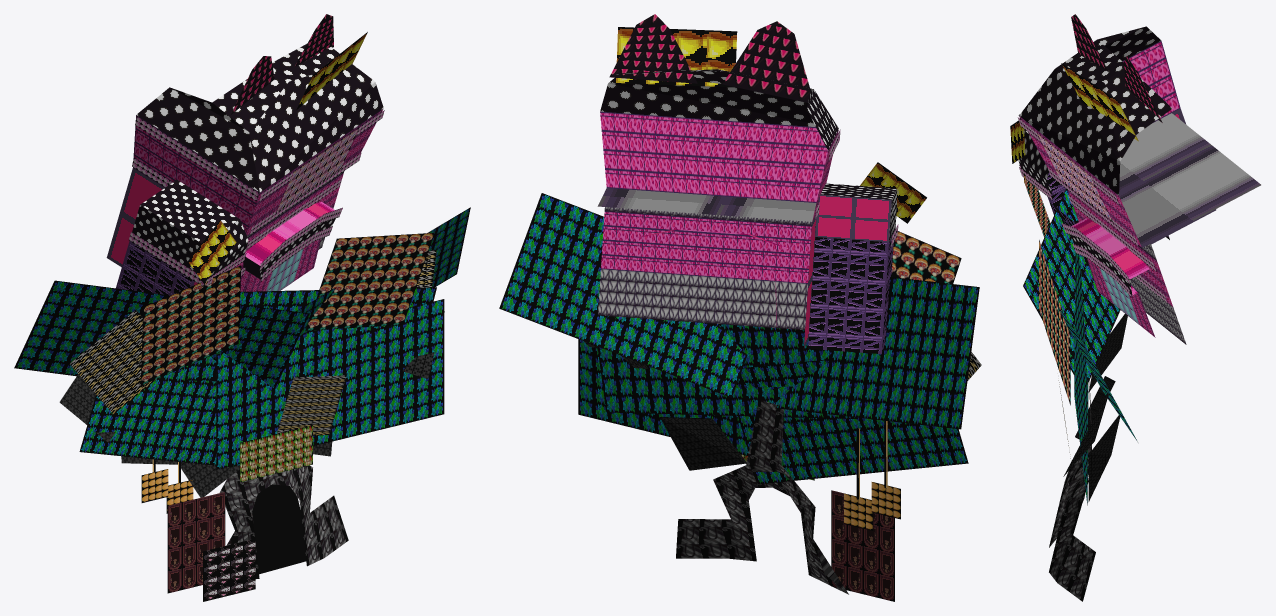
File: tp_pan00.gltf
The picture shows the model from 3 angles, left to right: view 1: azimuth 30°, elevation 25°; view 2: azimuth 150°, elevation 25°; view 3: azimuth 270°, elevation 25°; orthographic projection. The views are drawn at different scales.
Visible parts, largest first — view 1: tp_pan00; view 2: tp_pan00; view 3: tp_pan00.
Boxes of the visible parts, left/top/right/bottom form: tp_pan00: left=14, top=14, right=470, bottom=601; tp_pan00: left=499, top=14, right=981, bottom=601; tp_pan00: left=1010, top=14, right=1260, bottom=601.
Bounding box in the file's own units: 6.36 × 7.22 × 3.01.
22 materials, 22 textured.
